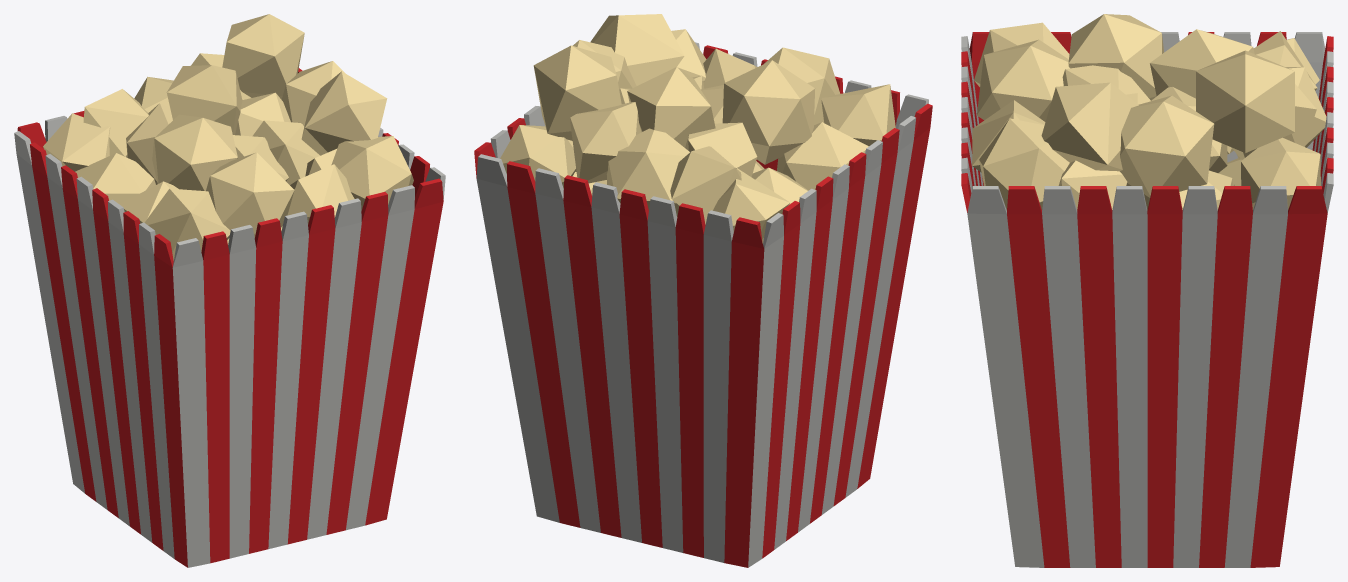
Rendered from Popcorn.fbx.
3 views of the same model, side by side, from view 1: azimuth 30°, elevation 25°; view 2: azimuth 150°, elevation 25°; view 3: azimuth 270°, elevation 25° (orthographic). The views are drawn at different scales.
Parts seen in each view (by area): view 1: Popcorn; view 2: Popcorn; view 3: Popcorn.
Part boxes in pixels (x1,y1,x2,y2): Popcorn: (14,14,445,567); Popcorn: (474,14,932,567); Popcorn: (961,14,1333,567).
Bounding box in the file's own units: 8.51 × 12.69 × 8.51.
